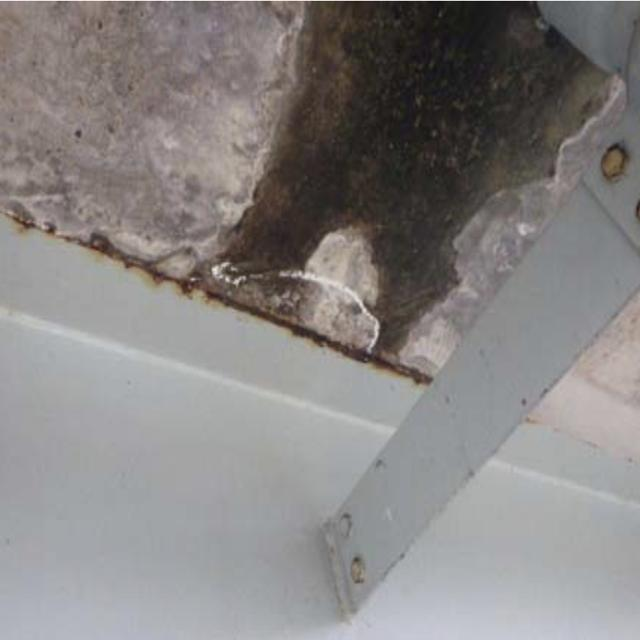leakage: (220, 4, 614, 370)
